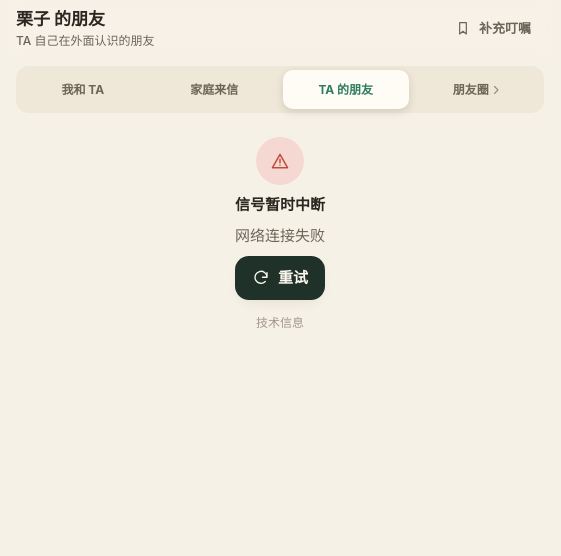
Test case: TA 的朋友：列表 › 请求失败：给可重试的错误态，点“重试”再请求一次，成功后显示列表
Click the button "重试": (280, 278) [235,256,325,300]
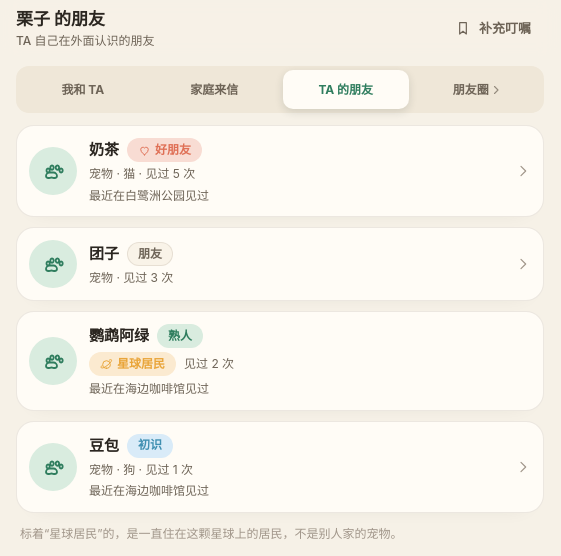
expect the message "信号暂时中断 网络连接失败 重试 技术信息" is gone: met
